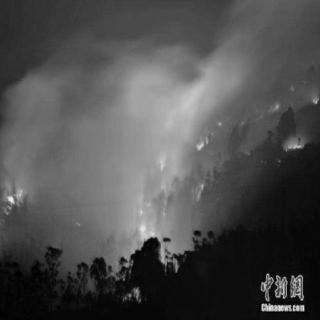Fire: (121, 140, 196, 258), (270, 118, 308, 158)
Smoke: (17, 11, 280, 98)
